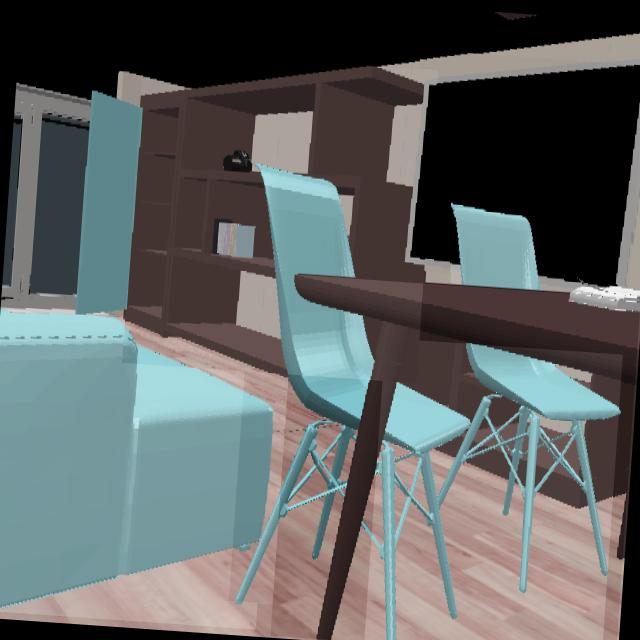book: (214, 220, 252, 257)
bookshelf: (125, 66, 423, 373)
chair: (377, 344, 618, 640), (237, 165, 373, 601), (455, 209, 538, 289)
monitor: (406, 66, 640, 284)
sofa: (0, 309, 271, 608)
table: (295, 275, 640, 639)
